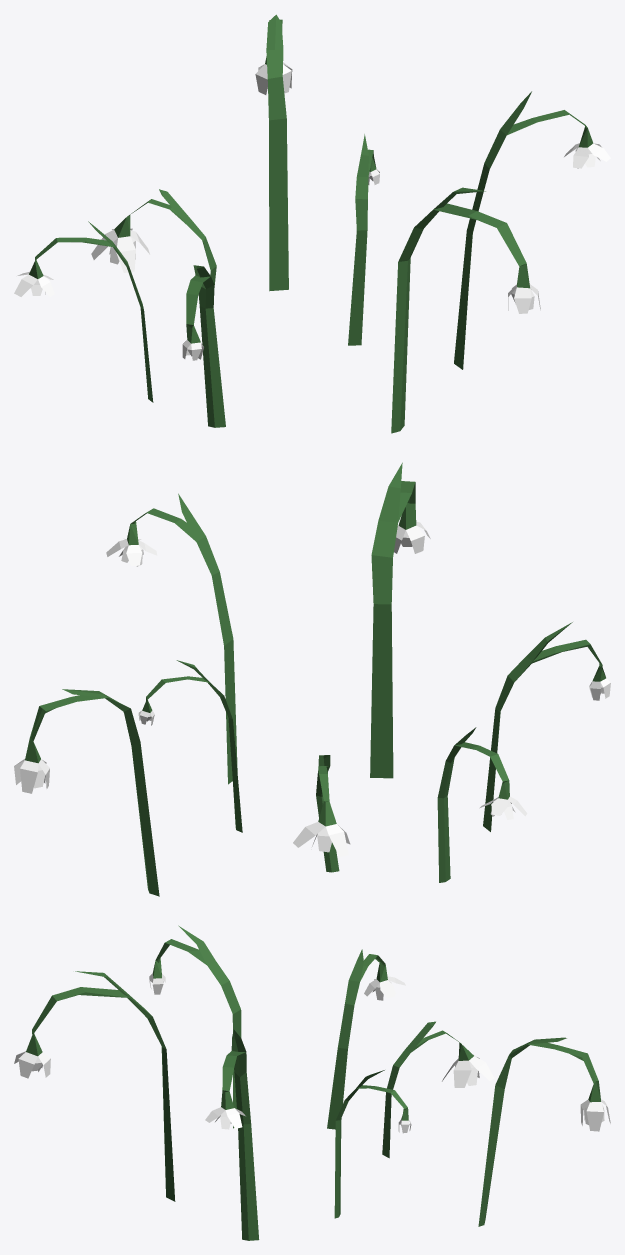
The model's file is flowers01.gltf.
3 renders of one model, top to bottom at view 1: azimuth 30°, elevation 25°; view 2: azimuth 150°, elevation 25°; view 3: azimuth 270°, elevation 25°, orthographic. The views are drawn at different scales.
Parts seen in each view (by area): view 1: Plane.001; view 2: Plane.001; view 3: Plane.001.
Part boxes in pixels (box(x1,y1,x2,y2)): Plane.001: box(14, 14, 610, 433); Plane.001: box(14, 462, 610, 896); Plane.001: box(14, 925, 610, 1240).
Size of the model in its own units: 0.6527 by 0.3377 by 0.7467.
Materials: 1 (1 with a texture image).
